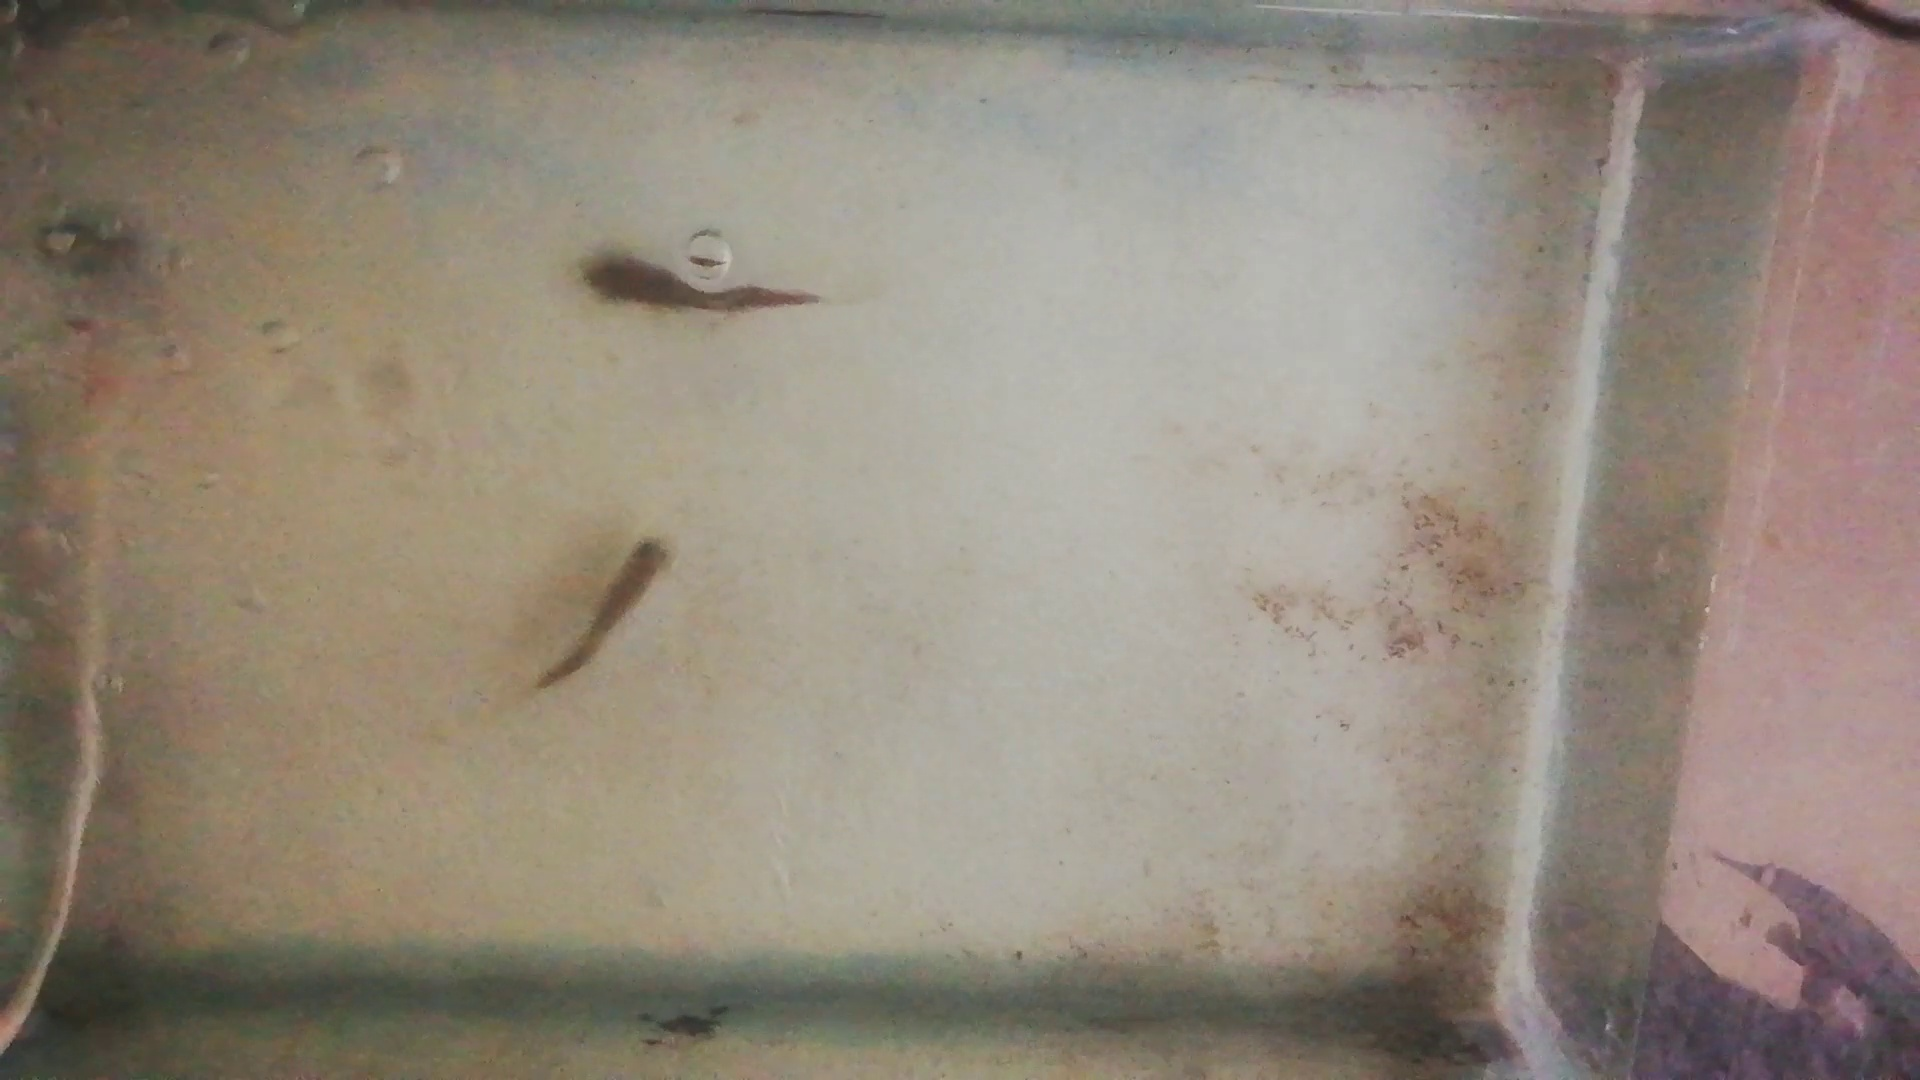fish: (538, 535, 670, 692), (574, 252, 818, 316)
